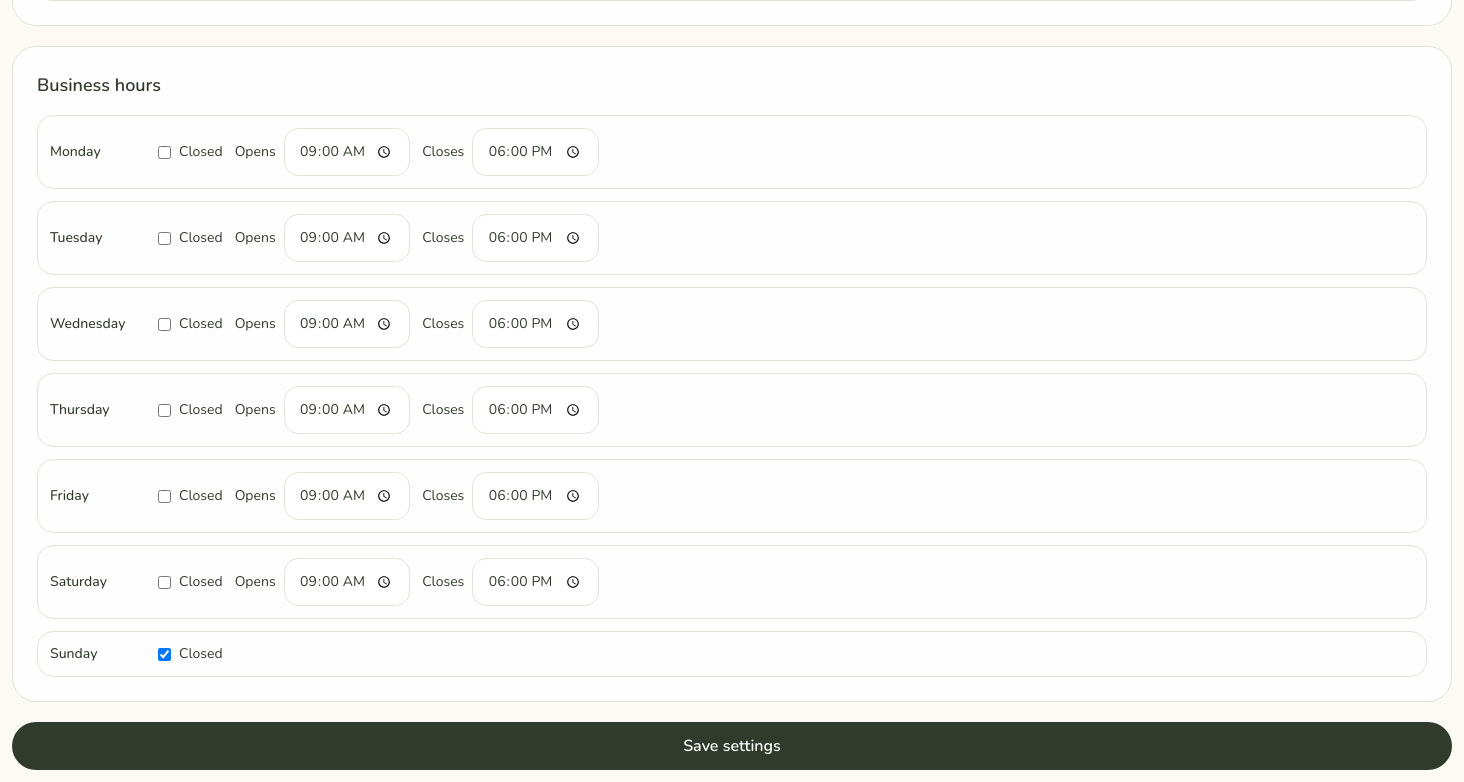
AdminSettingsForm › reports API failures without refreshing
The width and height of the screenshot is (1464, 782).
(page scrolled)
Step 1. Click the button "Save settings" → (732, 746), box [12, 722, 1452, 770]
(page scrolled)
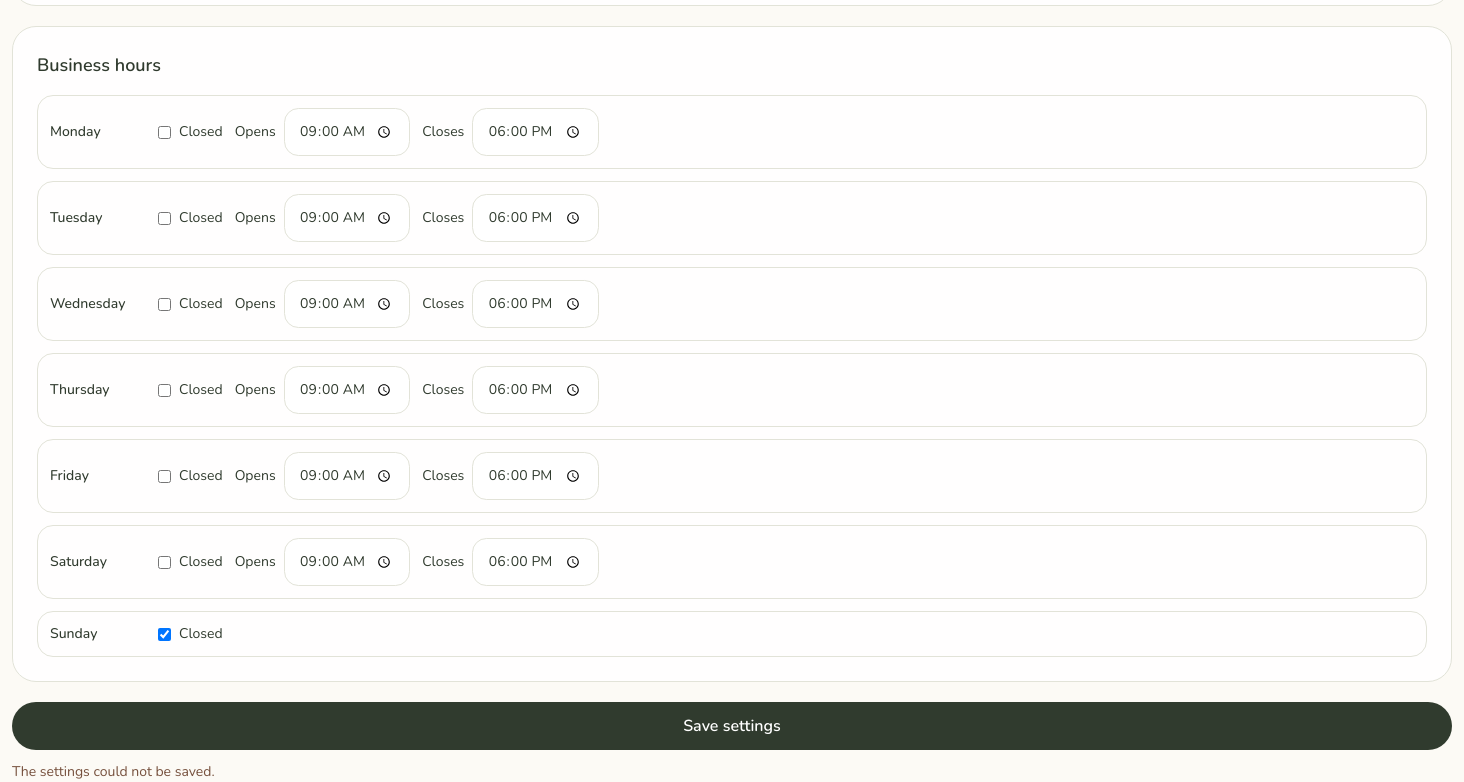
Expected: the text "The settings could not be saved." is shown, [12, 762, 215, 781]
